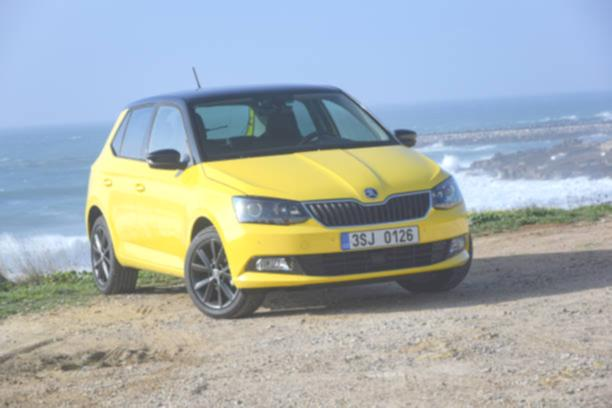skoda: (361, 185, 381, 202)
